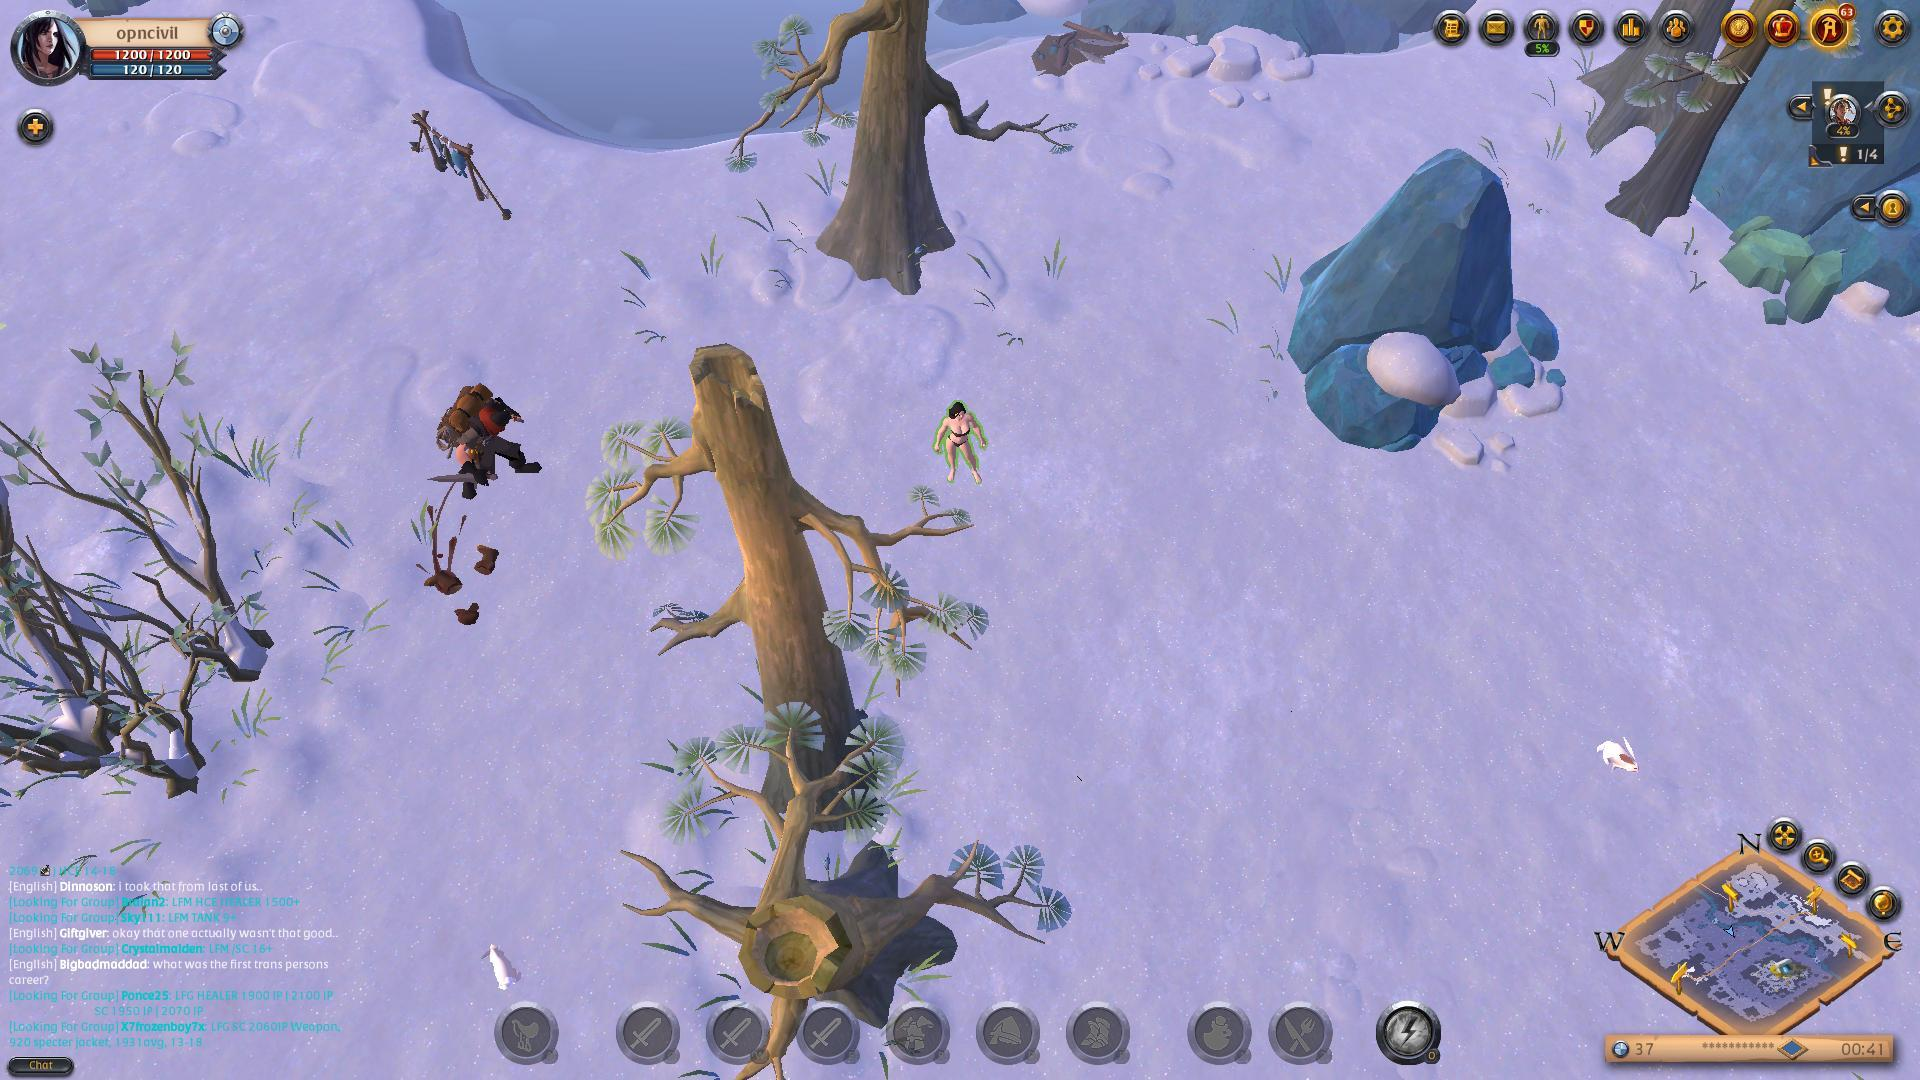mob: (435, 378, 542, 496)
sandstone: (1725, 210, 1878, 328)
